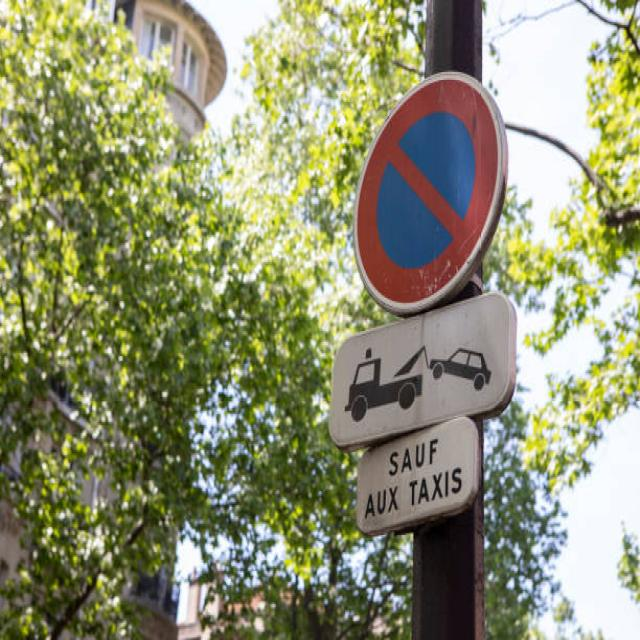forb_stopping: (352, 75, 508, 315)
